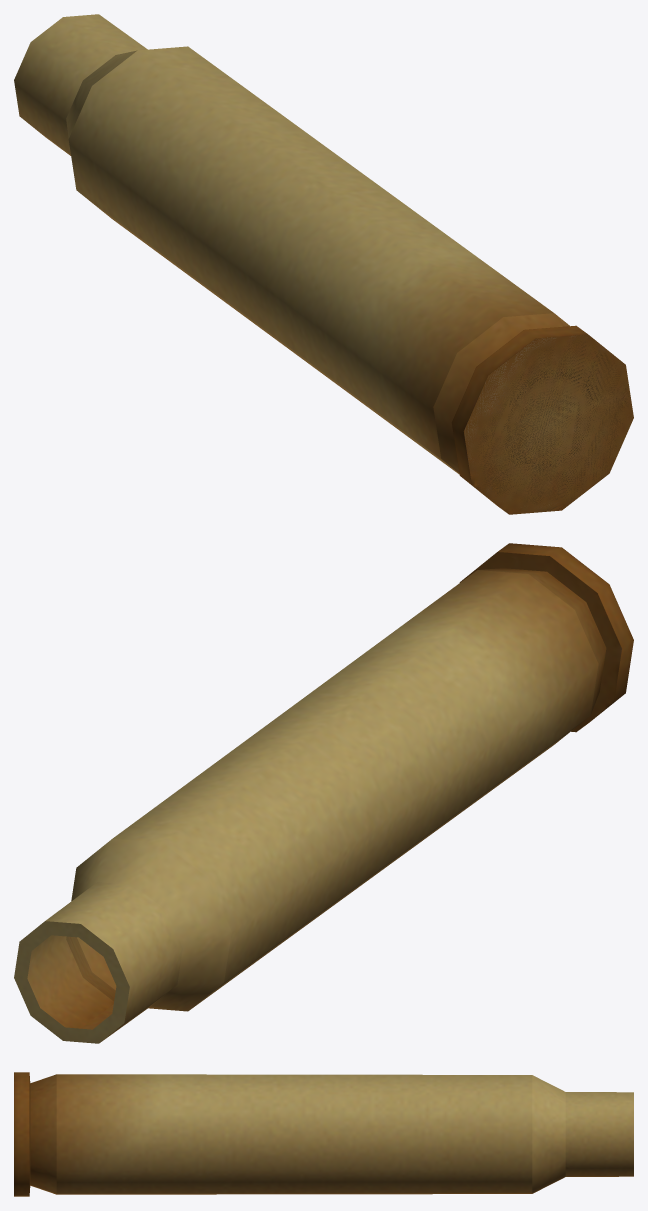
Rendered from bullet.obj.
The picture shows the model from 3 angles, top to bottom: view 1: azimuth 30°, elevation 25°; view 2: azimuth 150°, elevation 25°; view 3: azimuth 270°, elevation 25°; orthographic projection. The views are drawn at different scales.
Parts seen in each view (by area): view 1: bullet; view 2: bullet; view 3: bullet.
Boxes of the visible parts, x1,y1,x2,y2 form: bullet: (14, 14, 633, 514); bullet: (14, 543, 633, 1043); bullet: (14, 1072, 633, 1196).
Size of the model in its own units: 1.43 by 1.43 by 6.92.
1 material, 1 textured.
